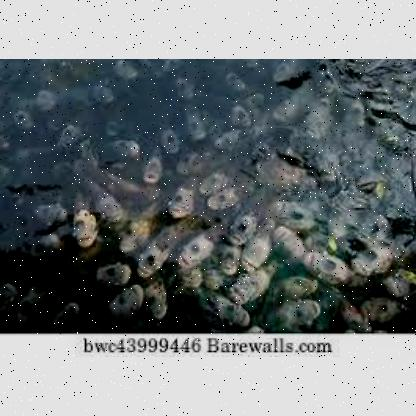gurame: (134, 224, 182, 276), (80, 178, 121, 224), (209, 293, 253, 333), (67, 190, 95, 250), (175, 226, 221, 262), (120, 200, 156, 244), (237, 226, 273, 270), (284, 296, 322, 330), (104, 284, 144, 316), (228, 200, 258, 242), (169, 175, 195, 221), (196, 167, 236, 195), (92, 260, 130, 284), (143, 147, 165, 187), (183, 104, 207, 140), (206, 184, 240, 208), (158, 118, 178, 152), (54, 296, 78, 324), (112, 135, 138, 157)
